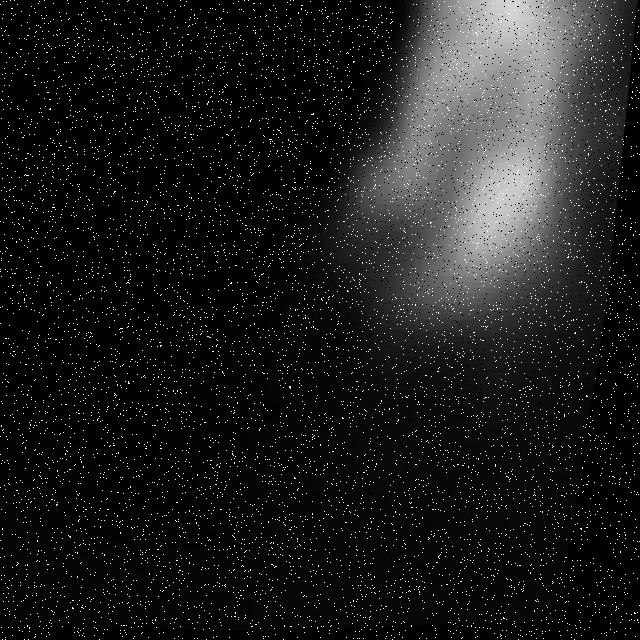person: (321, 1, 601, 397)
